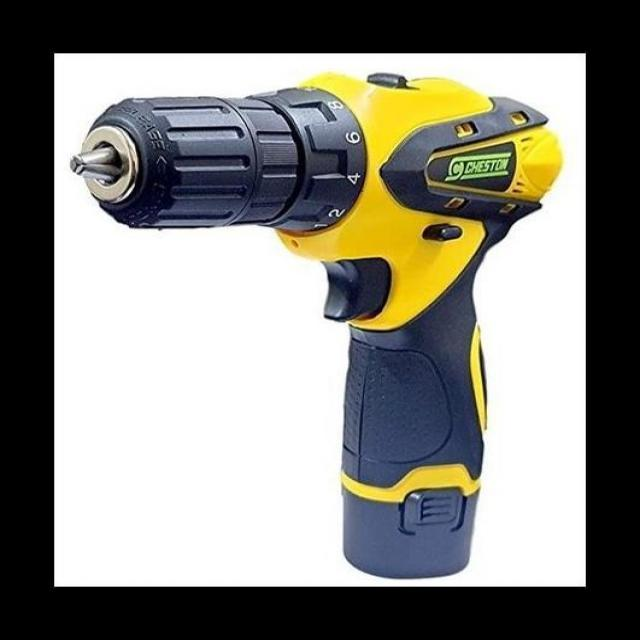drill: (69, 72, 562, 580)
